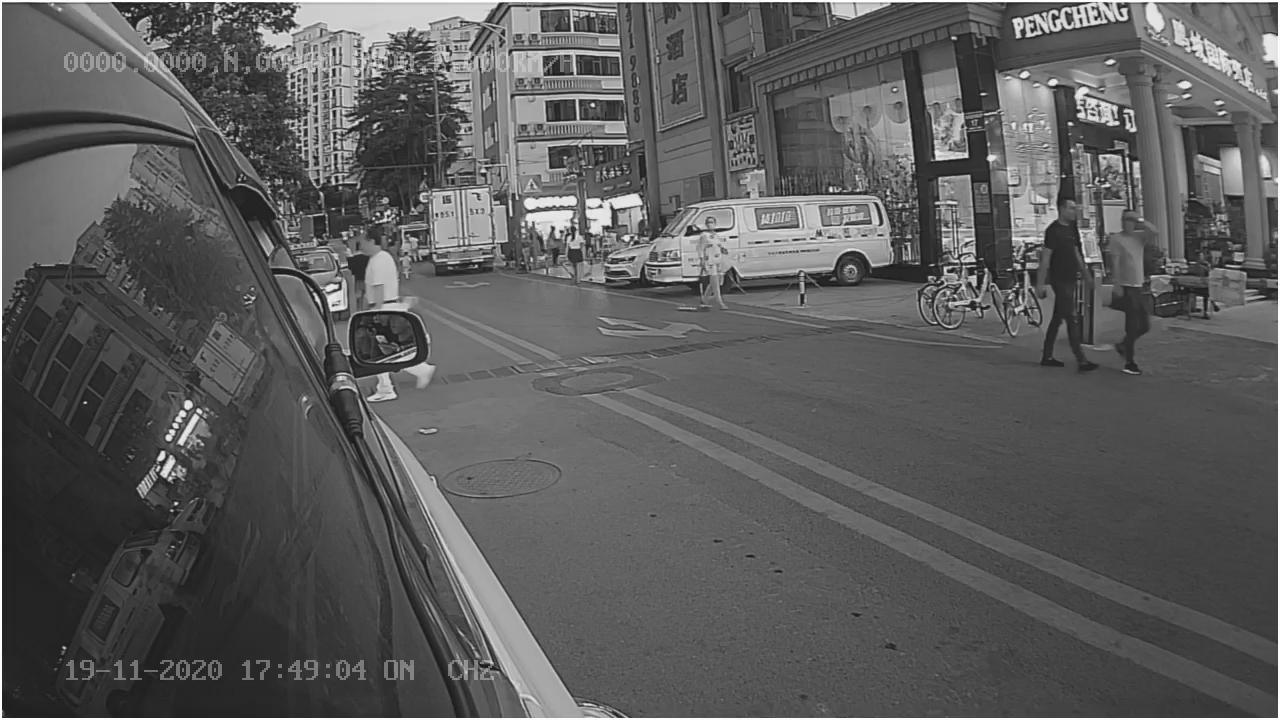person: (351, 223, 402, 307)
